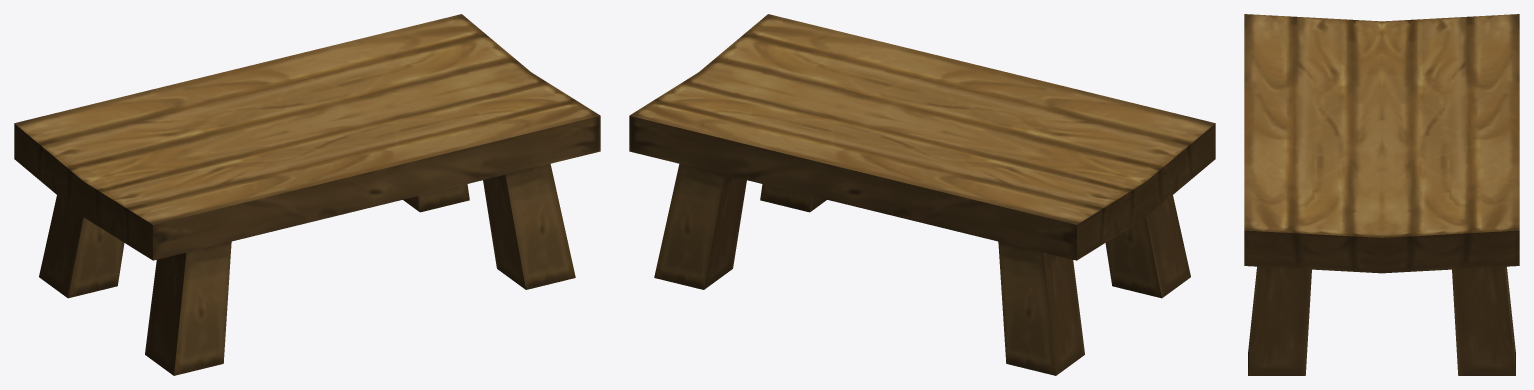
Rendered from OutdoorM_Table_a.FBX.
3 renders of one model, left to right at view 1: azimuth 30°, elevation 25°; view 2: azimuth 150°, elevation 25°; view 3: azimuth 270°, elevation 25°, orthographic.
Parts seen in each view (by area): view 1: OutdoorM_Table_a; view 2: OutdoorM_Table_a; view 3: OutdoorM_Table_a.
Part boxes in pixels (<box>): OutdoorM_Table_a: <box>14,14,600,375</box>; OutdoorM_Table_a: <box>629,14,1215,375</box>; OutdoorM_Table_a: <box>1244,14,1519,375</box>.
Bounding box in the file's own units: 22.41 × 7.56 × 12.04.
